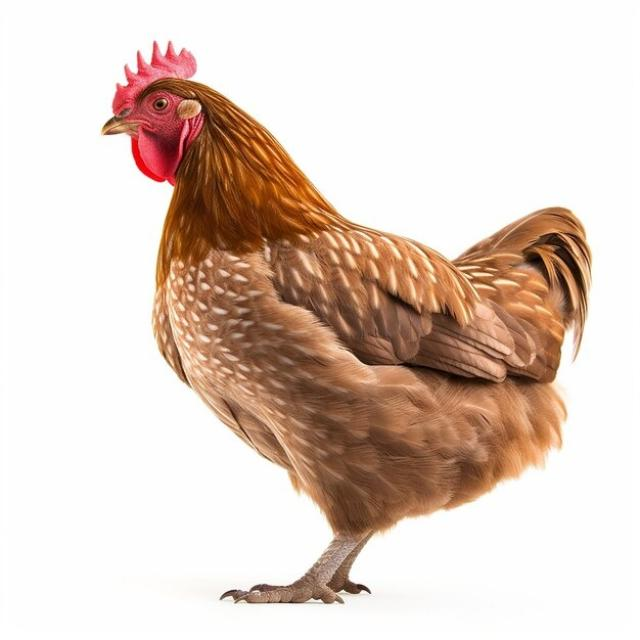Chicken: (97, 39, 590, 605)
